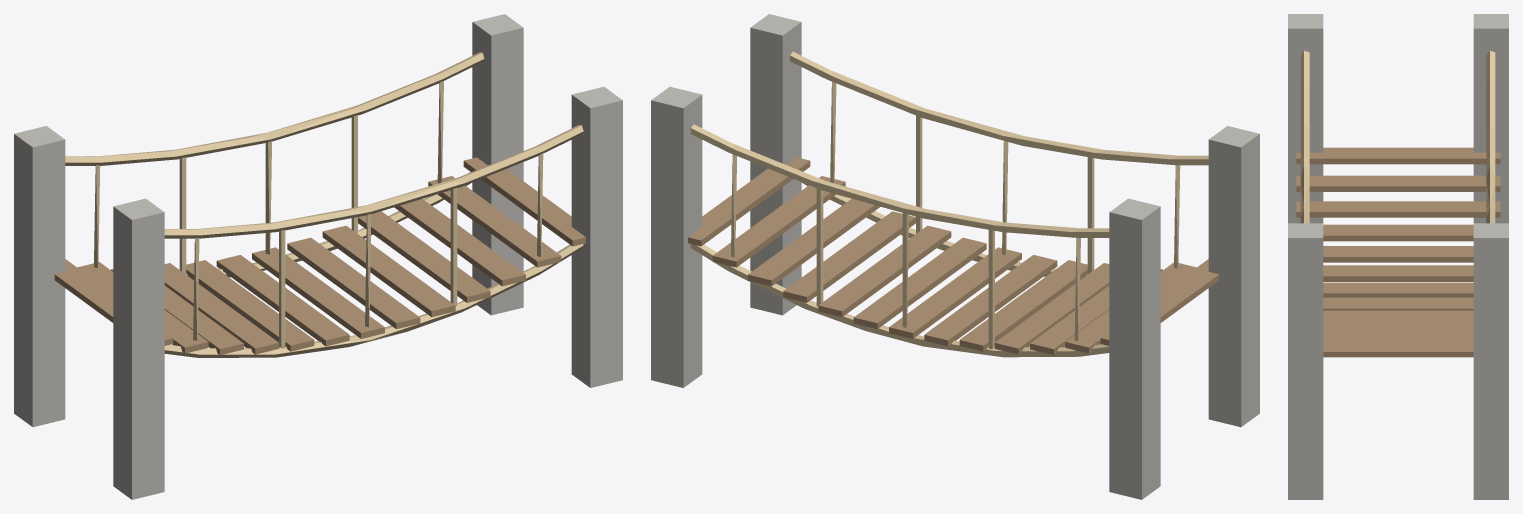
Rendered from 25-Ruinas-Templos_puente_cuerda.glb.
3 views of the same model, side by side, from view 1: azimuth 30°, elevation 25°; view 2: azimuth 150°, elevation 25°; view 3: azimuth 270°, elevation 25° (orthographic). The views are drawn at different scales.
Visible parts, largest first — view 1: SM_Puente_M_Piedra_Puente_Madera_Puente_Cuerda_Puente; view 2: SM_Puente_M_Piedra_Puente_Madera_Puente_Cuerda_Puente; view 3: SM_Puente_M_Piedra_Puente_Madera_Puente_Cuerda_Puente.
Part boxes in pixels (x1=…): SM_Puente_M_Piedra_Puente_Madera_Puente_Cuerda_Puente: x1=14, y1=14, x2=622, y2=499; SM_Puente_M_Piedra_Puente_Madera_Puente_Cuerda_Puente: x1=651, y1=14, x2=1259, y2=499; SM_Puente_M_Piedra_Puente_Madera_Puente_Cuerda_Puente: x1=1288, y1=14, x2=1508, y2=499.
Size of the model in its own units: 2.57 by 1.4 by 1.07.
